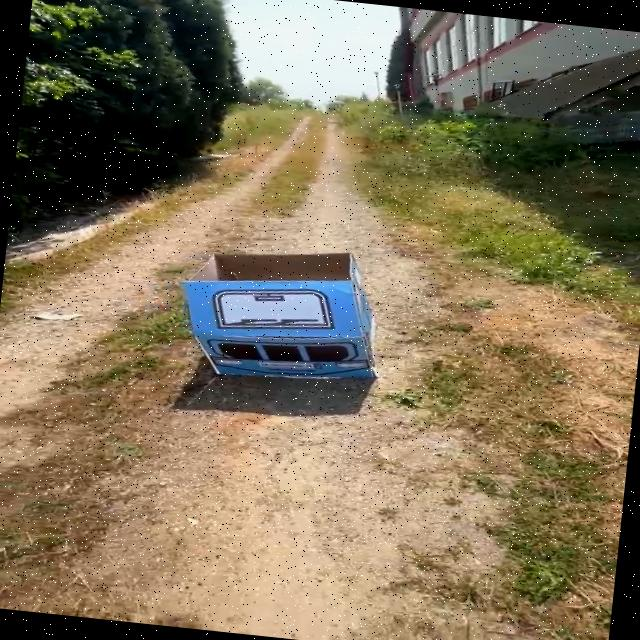blue_car: (167, 227, 410, 415)
